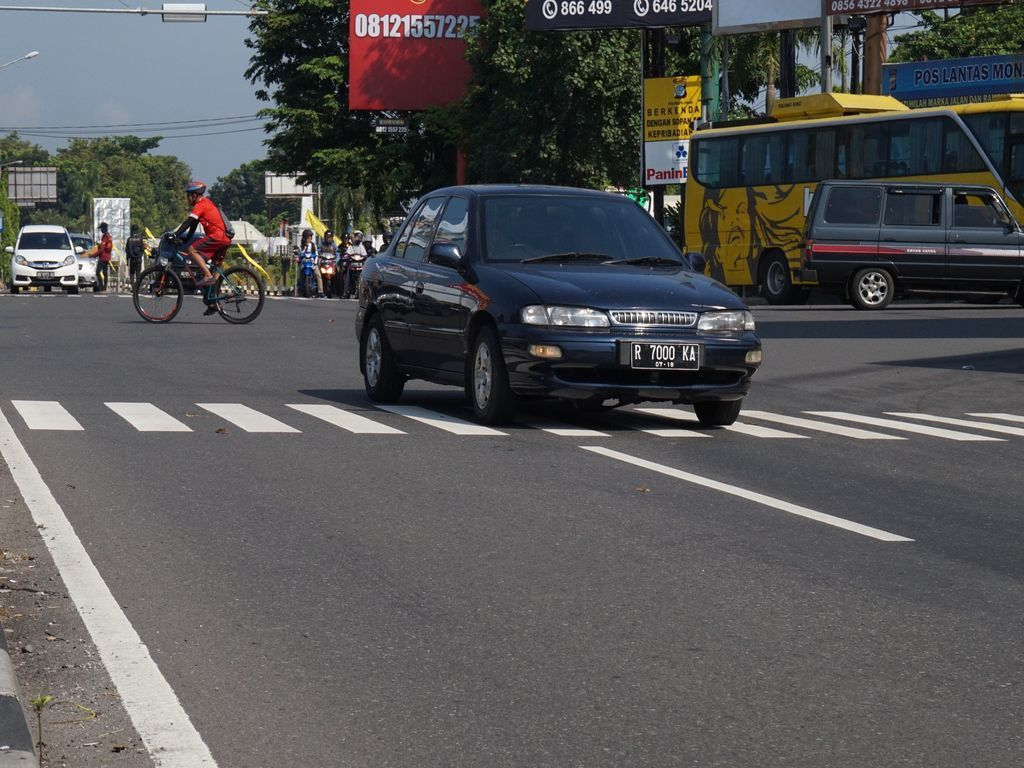plate: (634, 345, 696, 367)
